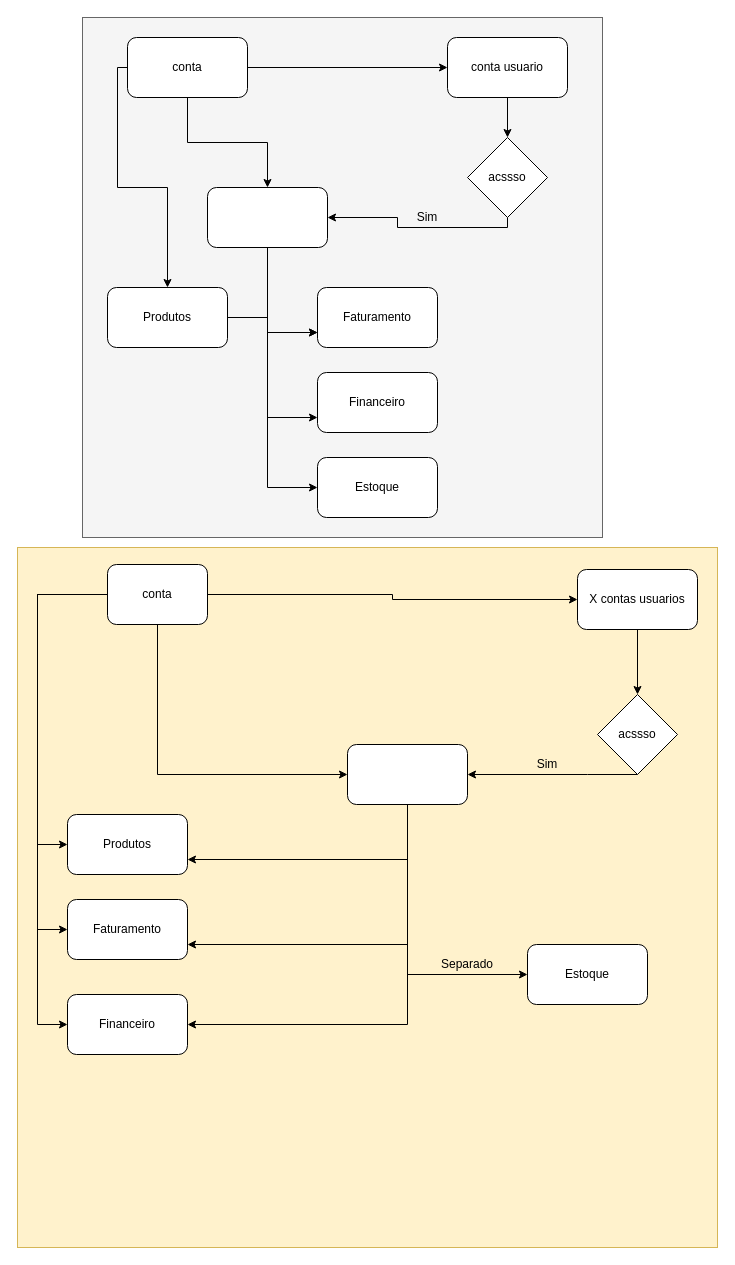
This 735x1265 diagram has some shape labels left out. Here are the shapes that lost their labels. From the top down, the box of each, then its label:
(206, 186, 328, 248): Empresa
(346, 744, 468, 804): X Empresas
